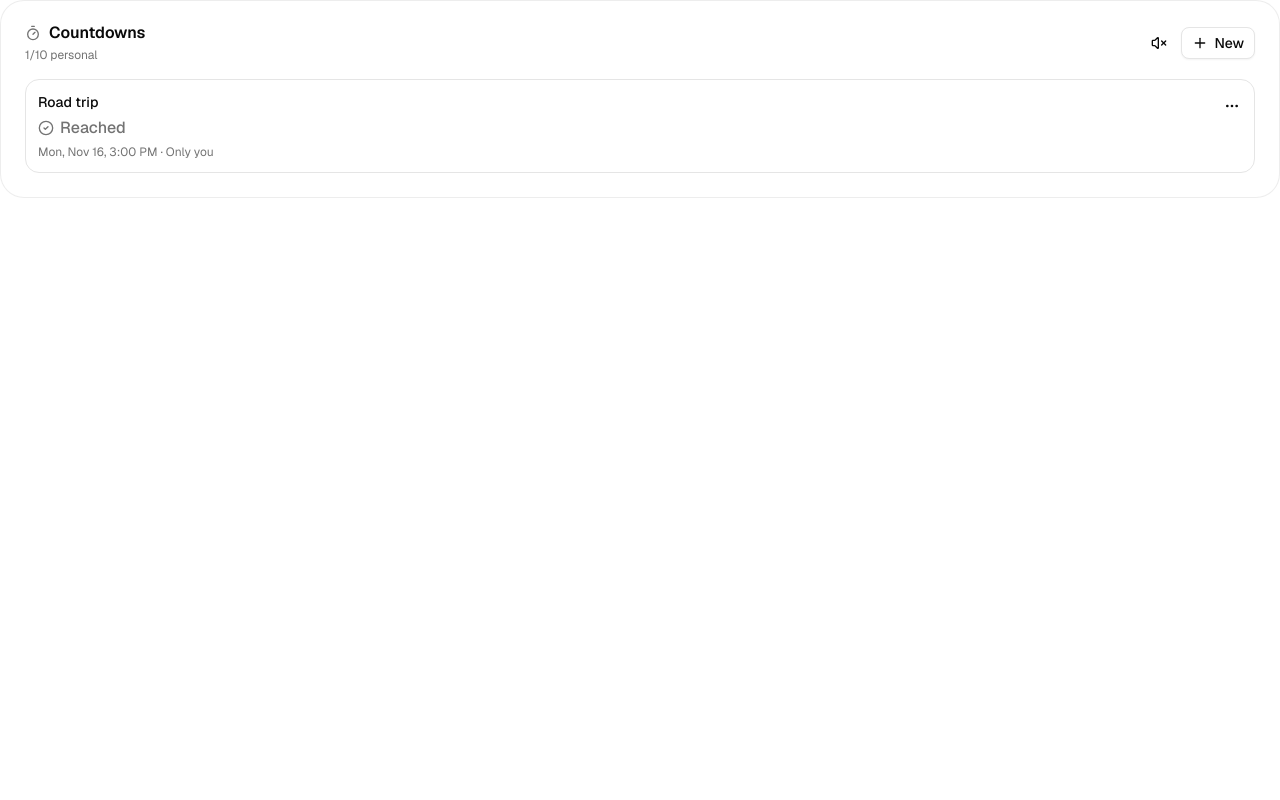
it: CountdownsCard › opens an existing countdown to edit
This screenshot has width=1280, height=800.
Click the button named "Actions for Road trip" at (1232, 106), box x1=1214 y1=88 x2=1250 y2=124
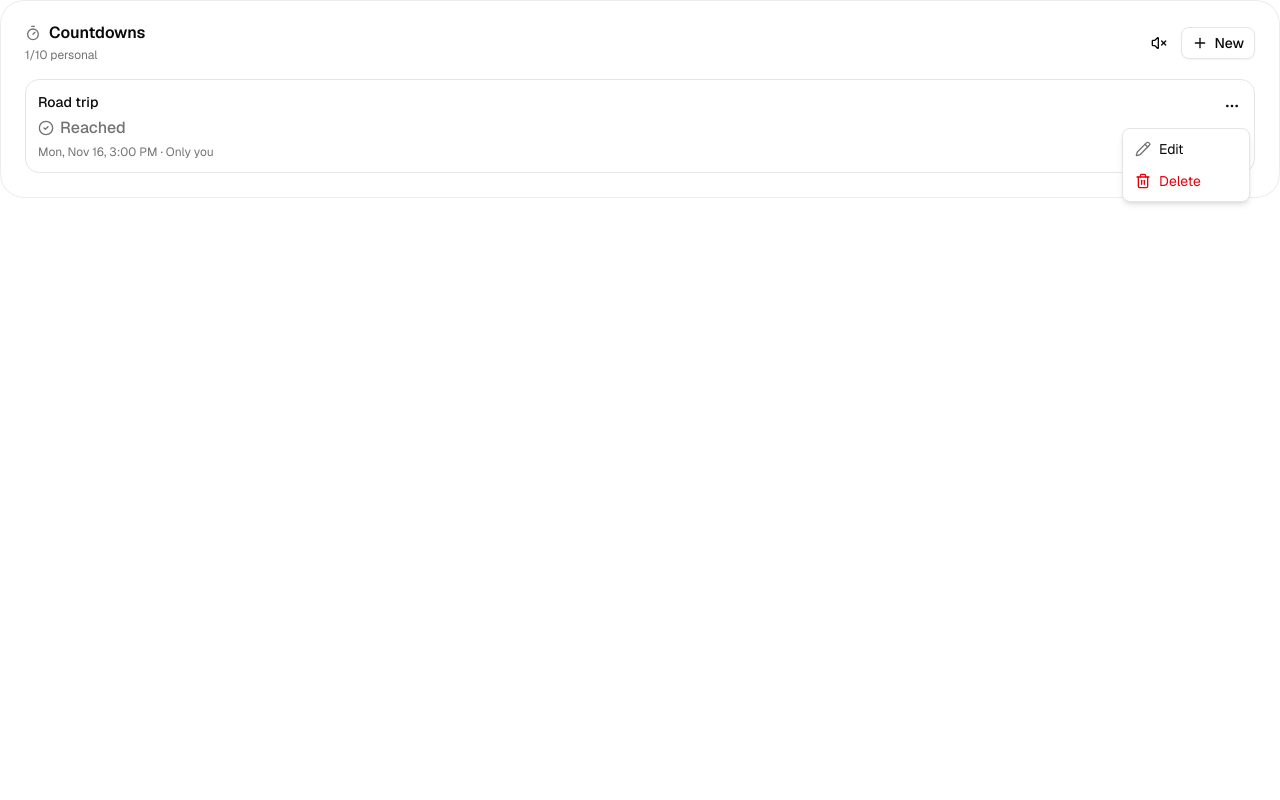
Click the menu item "Edit" at (1159, 149), box x1=1135 y1=140 x2=1184 y2=158
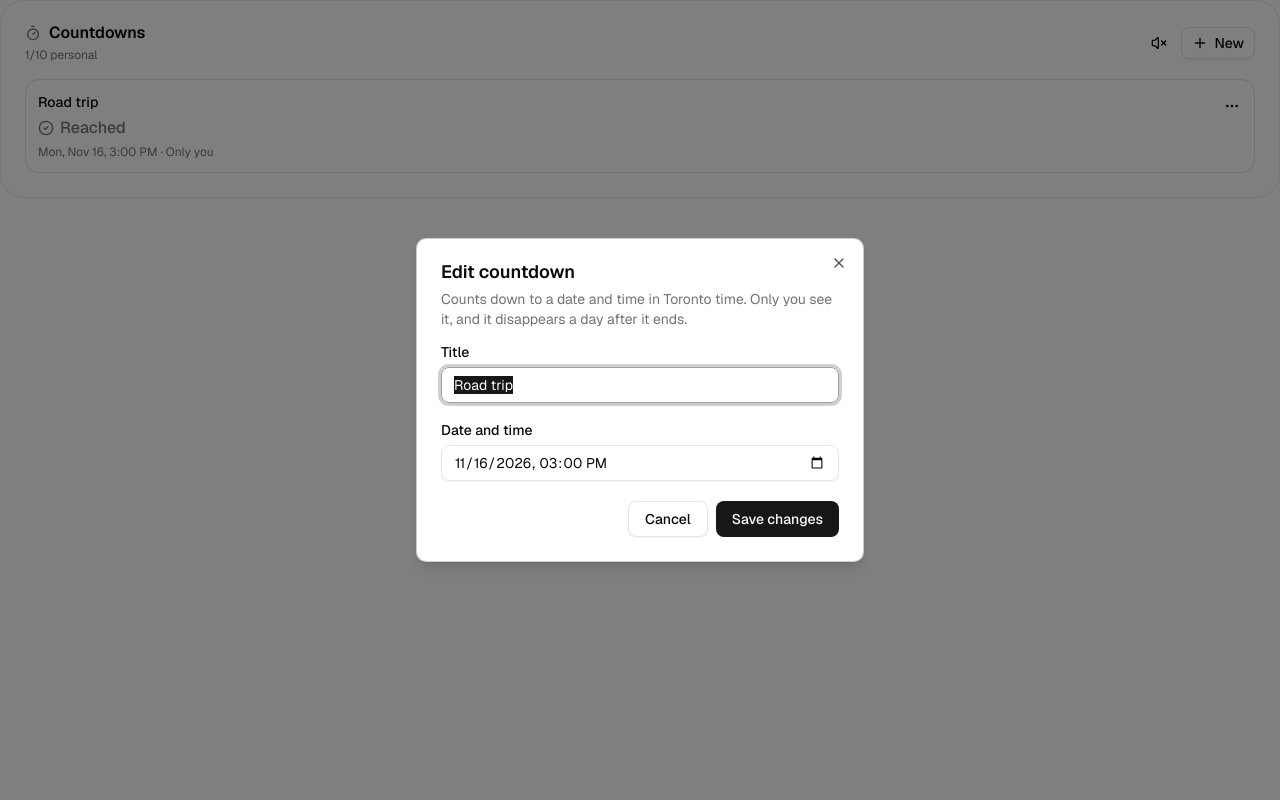
Expected: the heading "Edit countdown" is shown, x1=441 y1=260 x2=575 y2=283
Expected: the field labelled "Title" holds "Road trip", x1=441 y1=367 x2=839 y2=403
